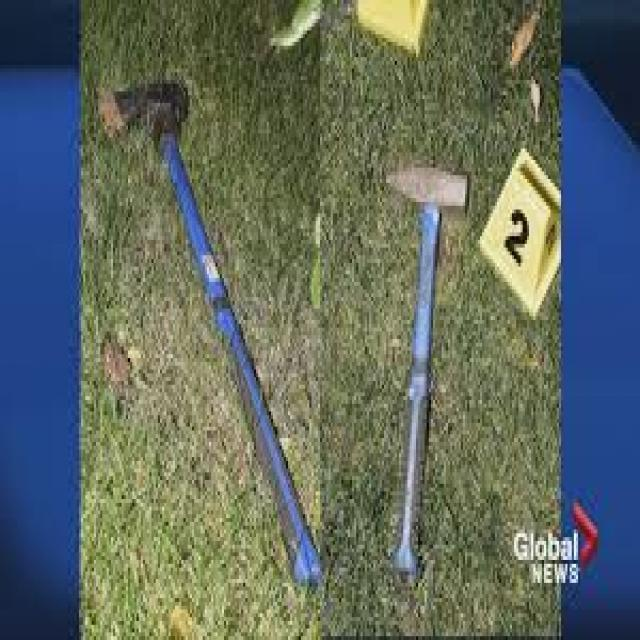hammer: (96, 63, 331, 612), (367, 143, 476, 600)
